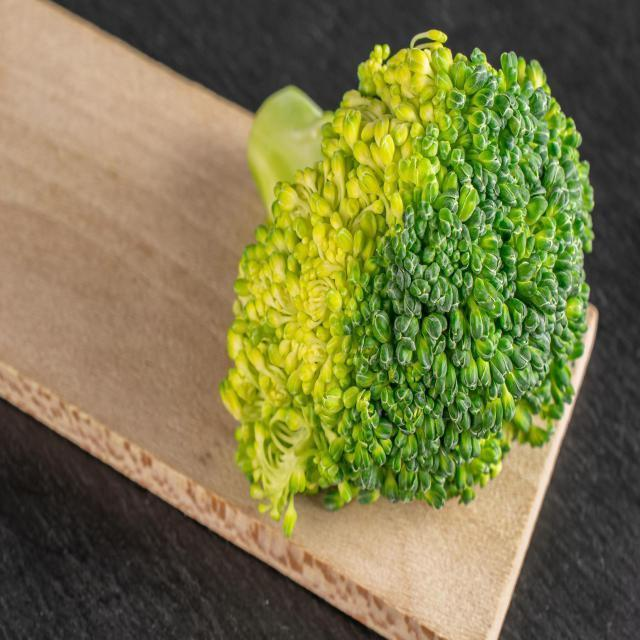broccoli: (216, 17, 600, 555)
